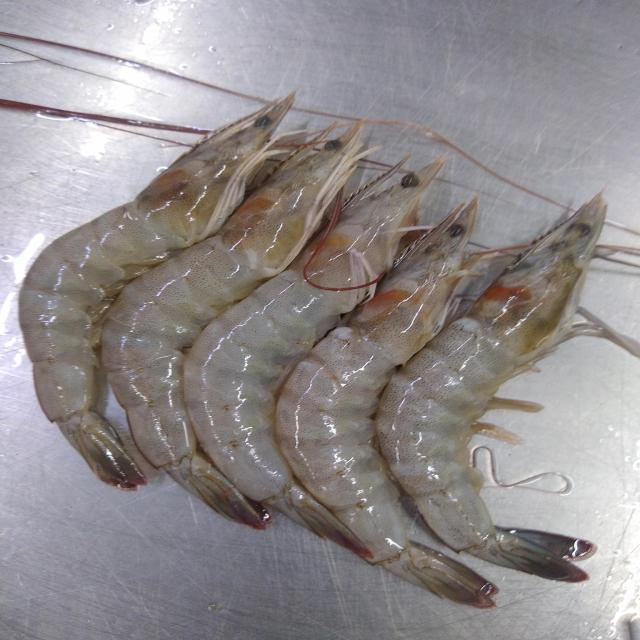shrimp: (20, 94, 295, 490), (377, 194, 625, 582), (183, 158, 443, 521), (102, 124, 363, 480), (275, 199, 477, 564)
